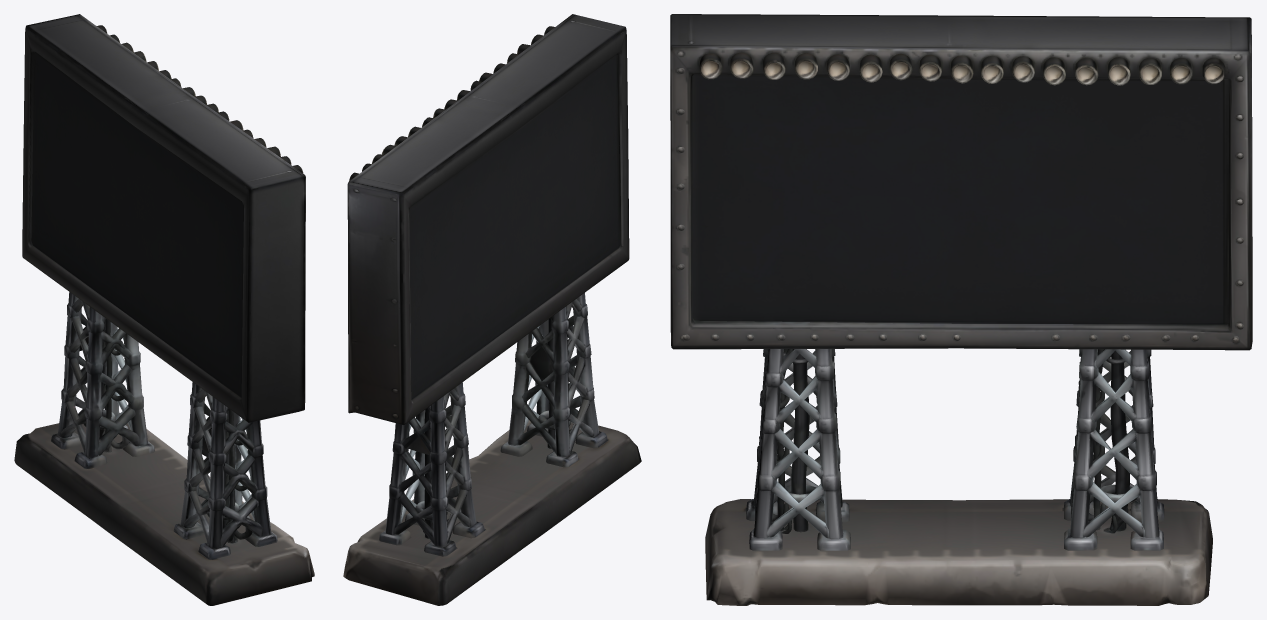
The picture shows the model from 3 angles, left to right: view 1: azimuth 30°, elevation 25°; view 2: azimuth 150°, elevation 25°; view 3: azimuth 270°, elevation 25°; orthographic projection. The views are drawn at different scales.
Visible parts, largest first — view 1: tripo_node_41cbcab3-ab21-415f-b134-59d27e991f25; view 2: tripo_node_41cbcab3-ab21-415f-b134-59d27e991f25; view 3: tripo_node_41cbcab3-ab21-415f-b134-59d27e991f25.
Part boxes in pixels (x1,y1,x2,y2): tripo_node_41cbcab3-ab21-415f-b134-59d27e991f25: [14, 14, 314, 605]; tripo_node_41cbcab3-ab21-415f-b134-59d27e991f25: [343, 14, 641, 605]; tripo_node_41cbcab3-ab21-415f-b134-59d27e991f25: [670, 14, 1252, 605].
Size of the model in its own units: 0.2739 by 0.9995 by 0.9712.
1 material, 1 textured.
